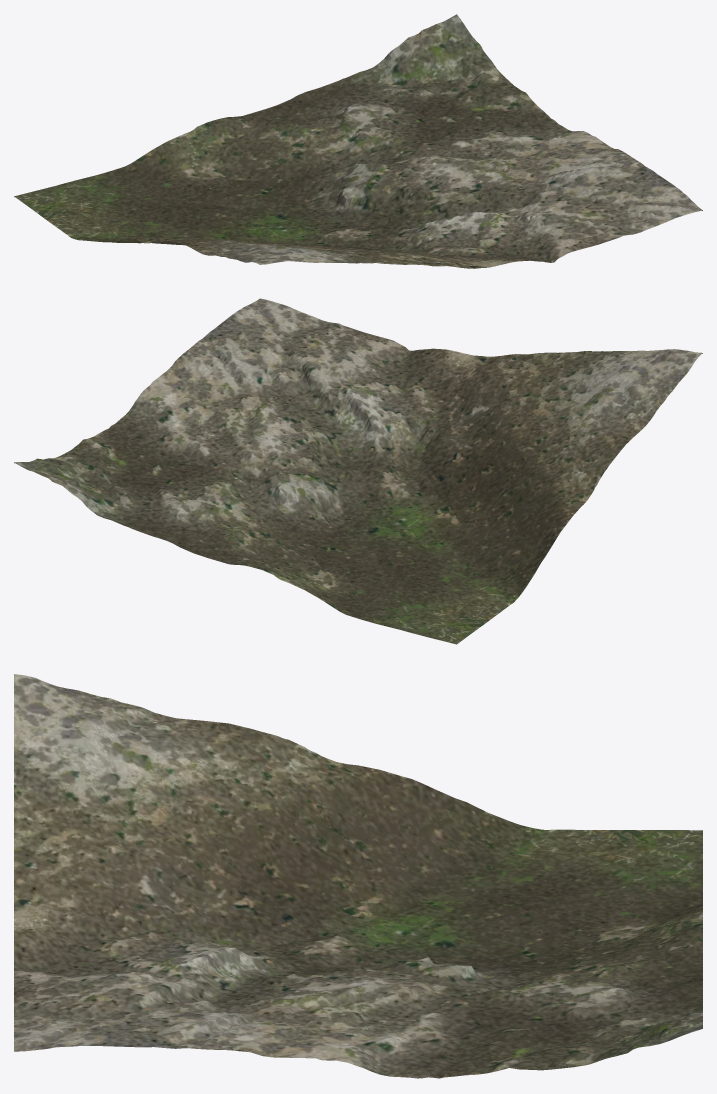
3 renders of one model, top to bottom at view 1: azimuth 30°, elevation 25°; view 2: azimuth 150°, elevation 25°; view 3: azimuth 270°, elevation 25°, orthographic. The views are drawn at different scales.
Bounding box in the file's own units: 500 × 121 × 481.
Materials: 1 (1 with a texture image).
